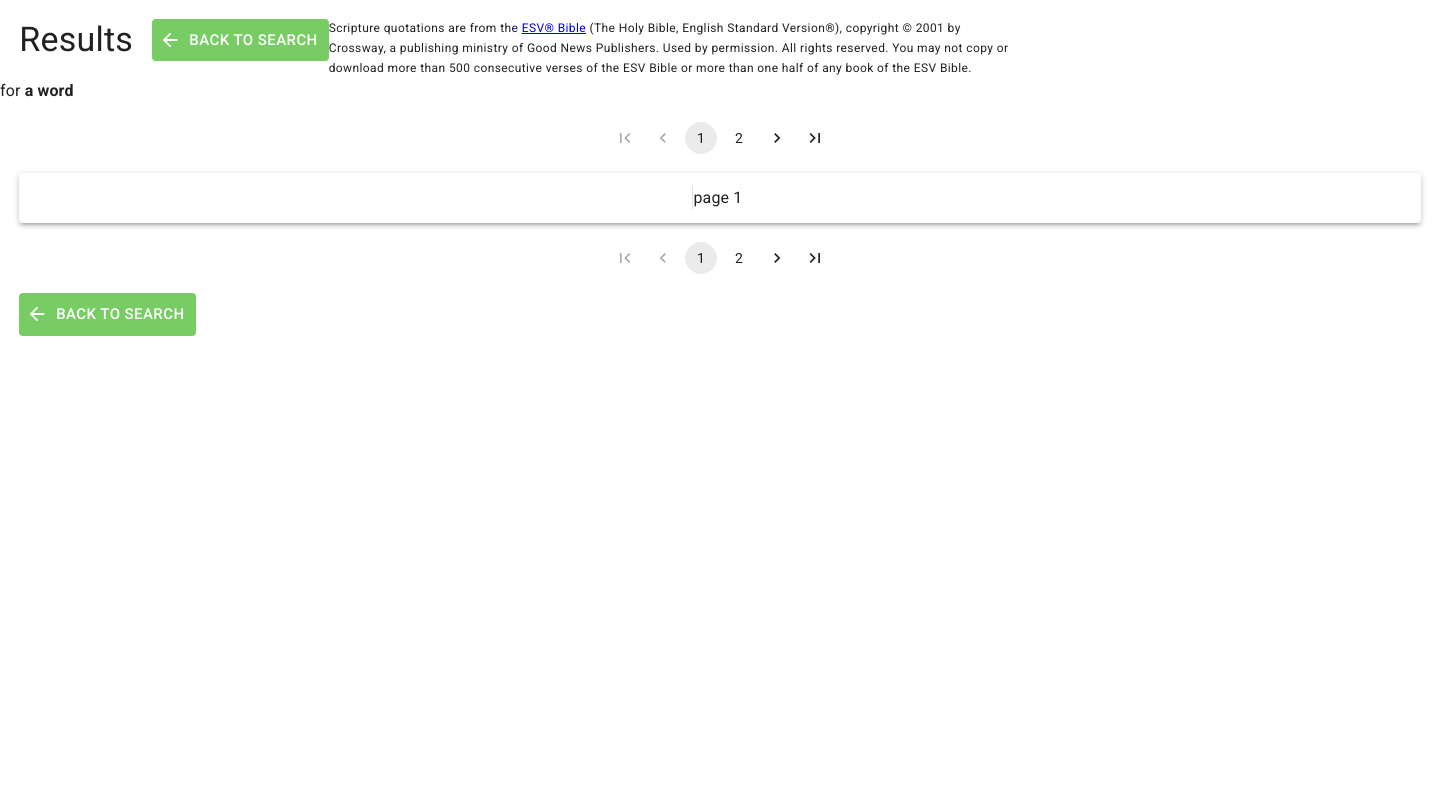
Test: Results component › pagination › handles errors when requesting new pages
This screenshot has width=1440, height=810.
Click the button named "Go to page 2". click: point(739, 138)
box: [723,122,755,154]
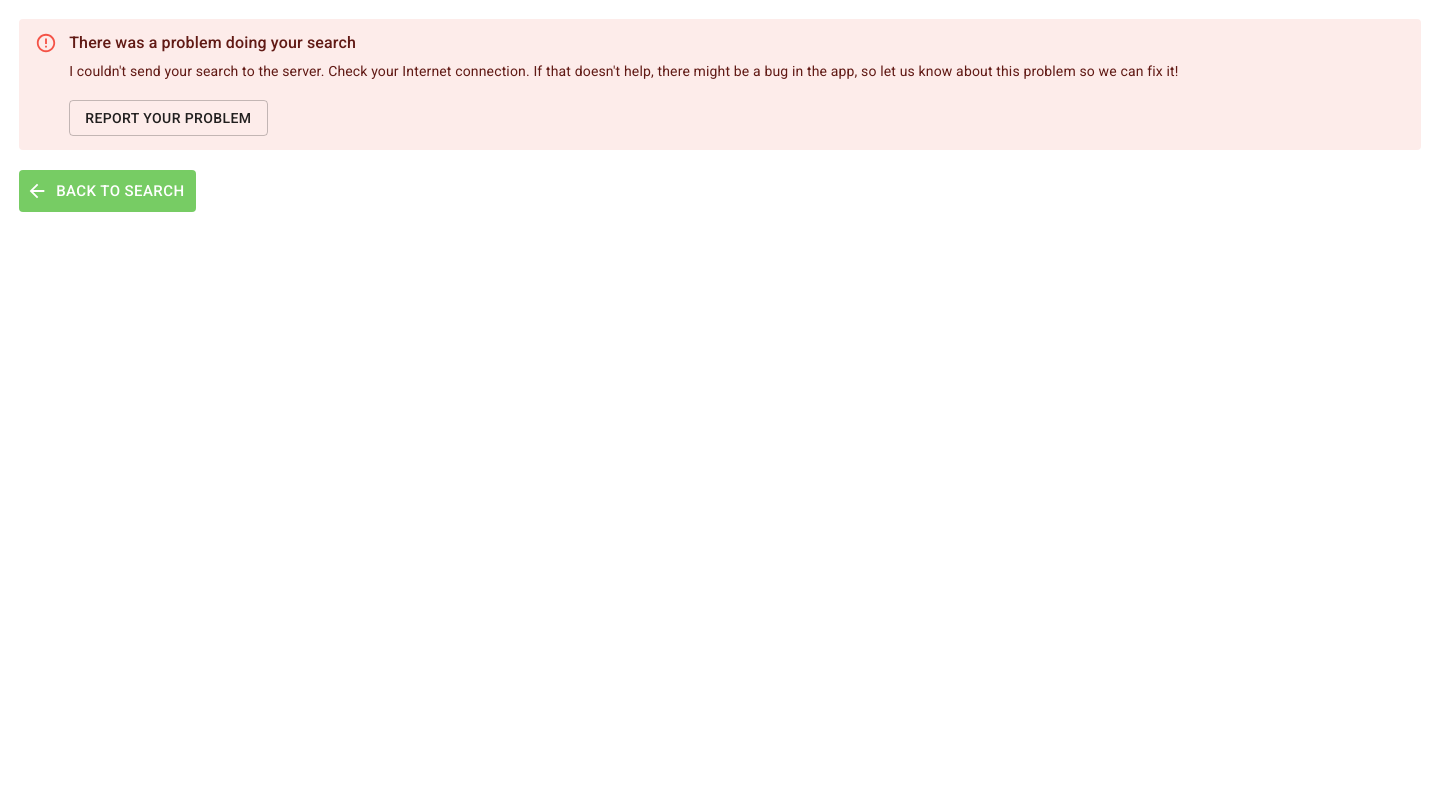
Check: the text "There was a problem doing your search" is shown, box [69,33,356,52]
